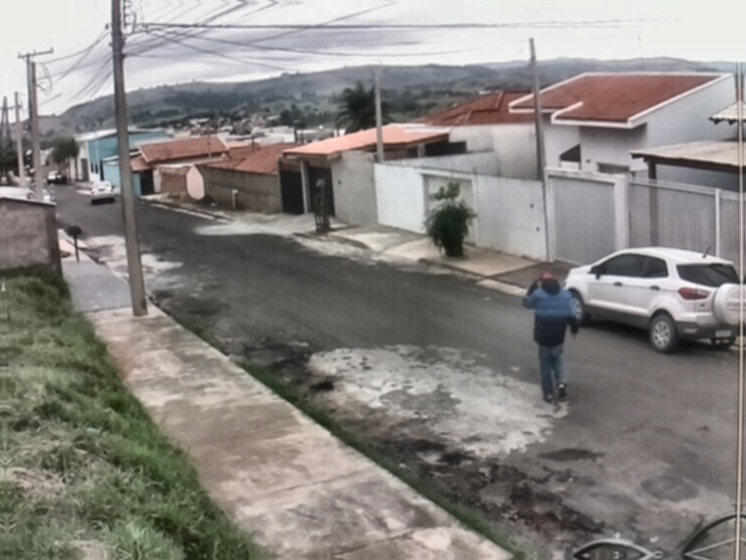person: (520, 271, 581, 406)
